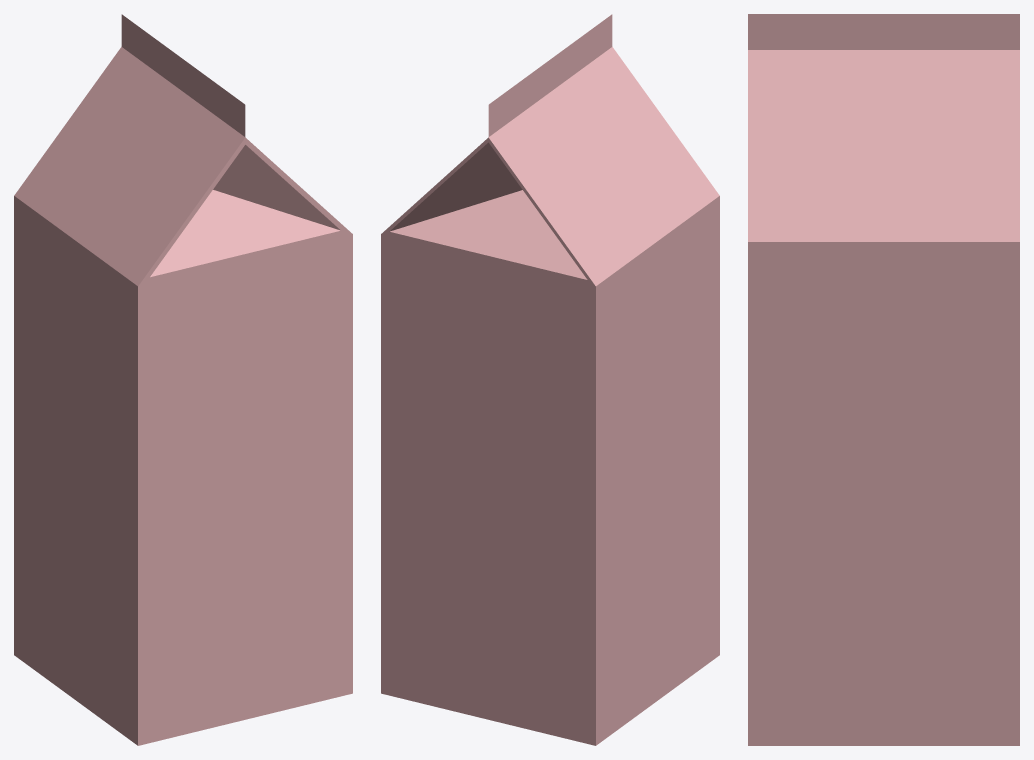
3 renders of one model, left to right at view 1: azimuth 30°, elevation 25°; view 2: azimuth 150°, elevation 25°; view 3: azimuth 270°, elevation 25°, orthographic. The views are drawn at different scales.
Parts seen in each view (by area): view 1: 큐브; view 2: 큐브; view 3: 큐브.
Part boxes in pixels (left/top/right/bottom): 큐브: left=14, top=14, right=352, bottom=745; 큐브: left=381, top=14, right=719, bottom=745; 큐브: left=748, top=14, right=1019, bottom=745.
Size of the model in its own units: 2 by 5.47 by 2.
